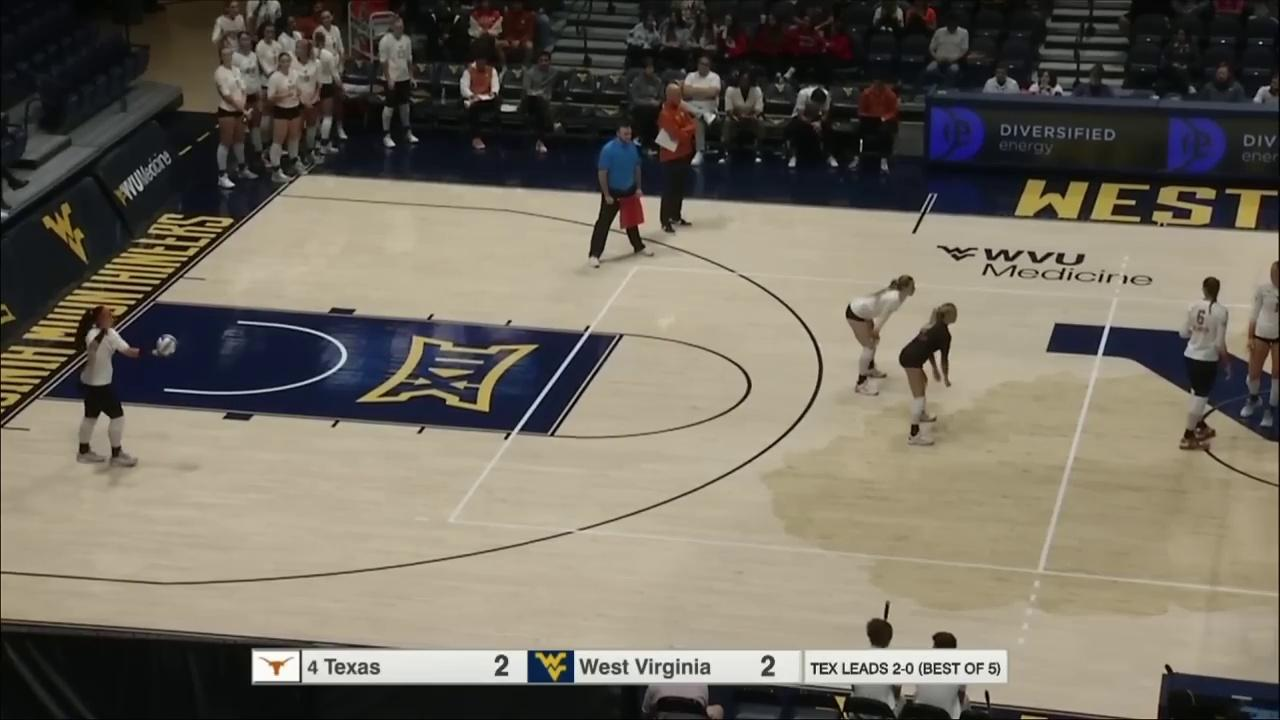player: (73, 309, 158, 466), (842, 264, 915, 393), (1179, 275, 1232, 449), (900, 300, 958, 446), (1242, 257, 1280, 429)
refree: (583, 125, 653, 271)
